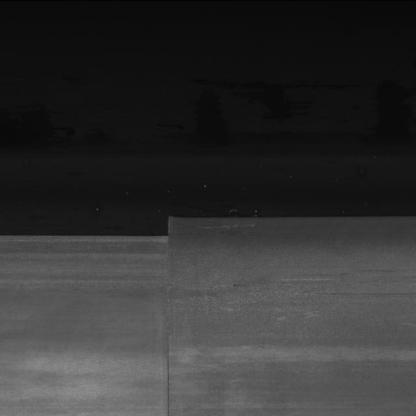welding_line: (146, 213, 180, 416)
